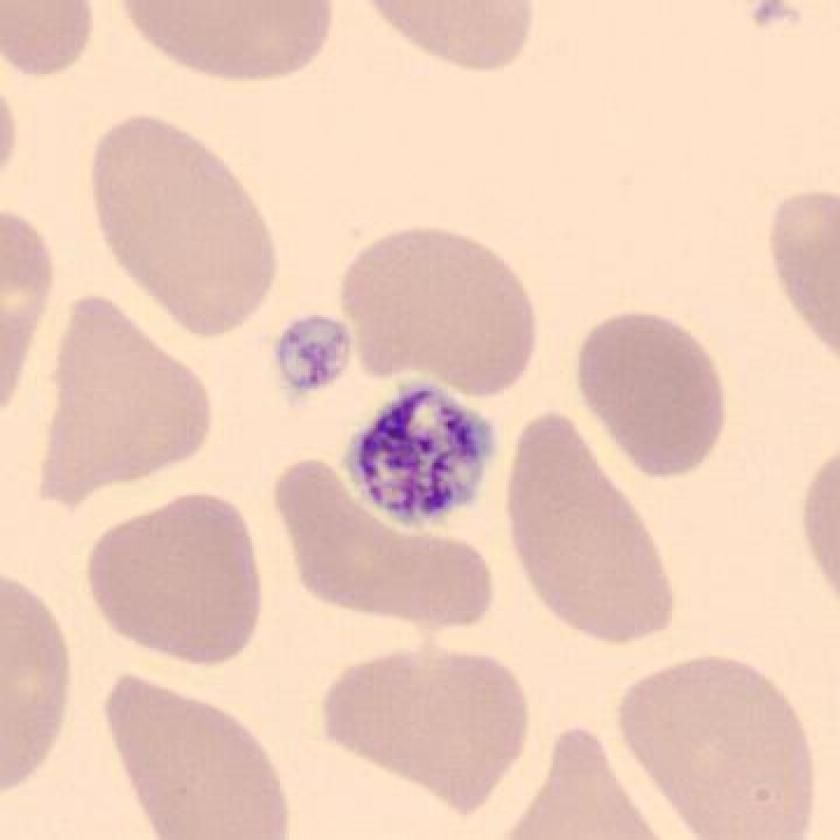platelets: (340, 378, 501, 531), (269, 311, 358, 408)
